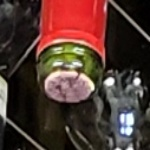bottle: (26, 33, 119, 120)
